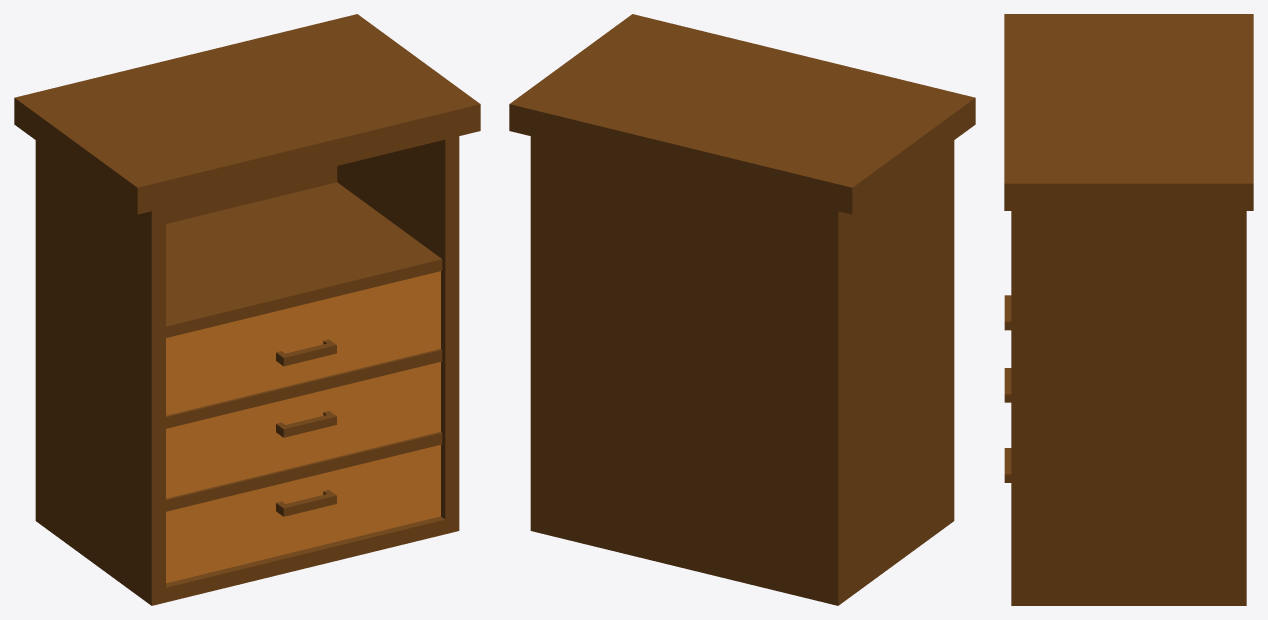
The model's file is Laci 2.fbx.
3 renders of one model, left to right at view 1: azimuth 30°, elevation 25°; view 2: azimuth 150°, elevation 25°; view 3: azimuth 270°, elevation 25°, orthographic.
Parts seen in each view (by area): view 1: jendela.005; view 2: jendela.005; view 3: jendela.005.
Boxes of the visible parts, left/top/right/bottom form: jendela.005: left=14, top=14, right=480, bottom=605; jendela.005: left=509, top=14, right=975, bottom=605; jendela.005: left=1004, top=14, right=1253, bottom=605.
Size of the model in its own units: 718 by 851 by 447.
